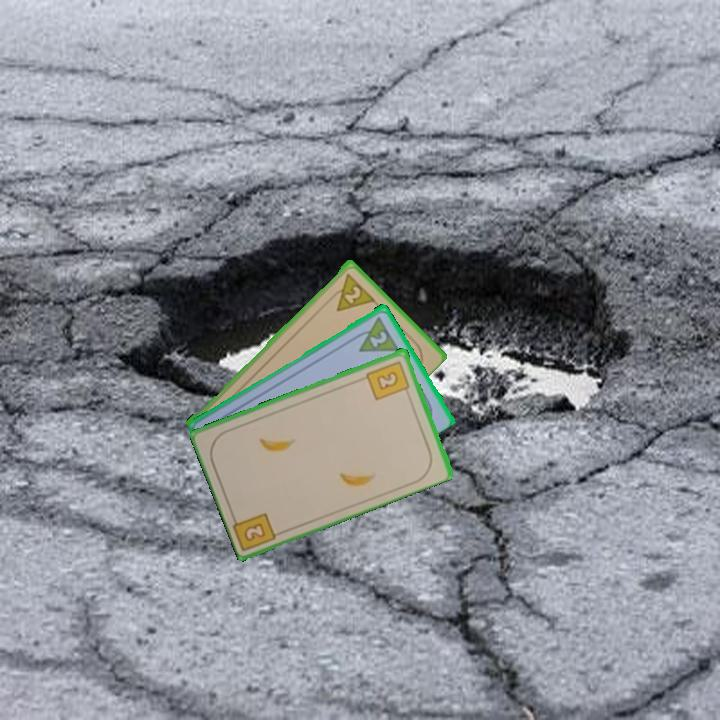2b: (363, 357, 413, 403), (240, 519, 269, 544)
2p: (325, 268, 377, 314), (349, 312, 401, 355)
